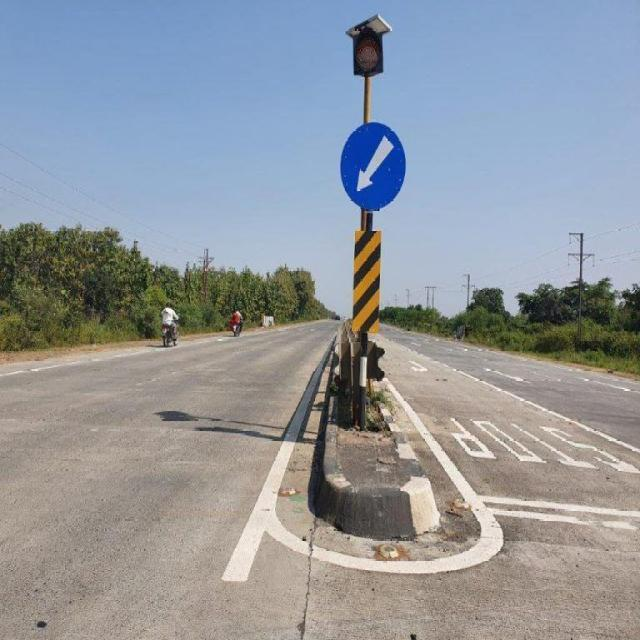compulsary keep left: (340, 119, 410, 216)
